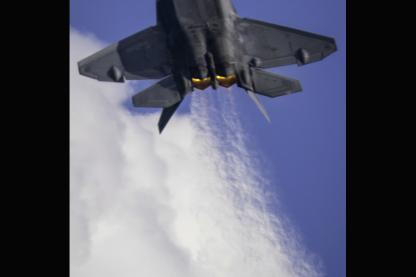F18: (77, 0, 339, 134)
